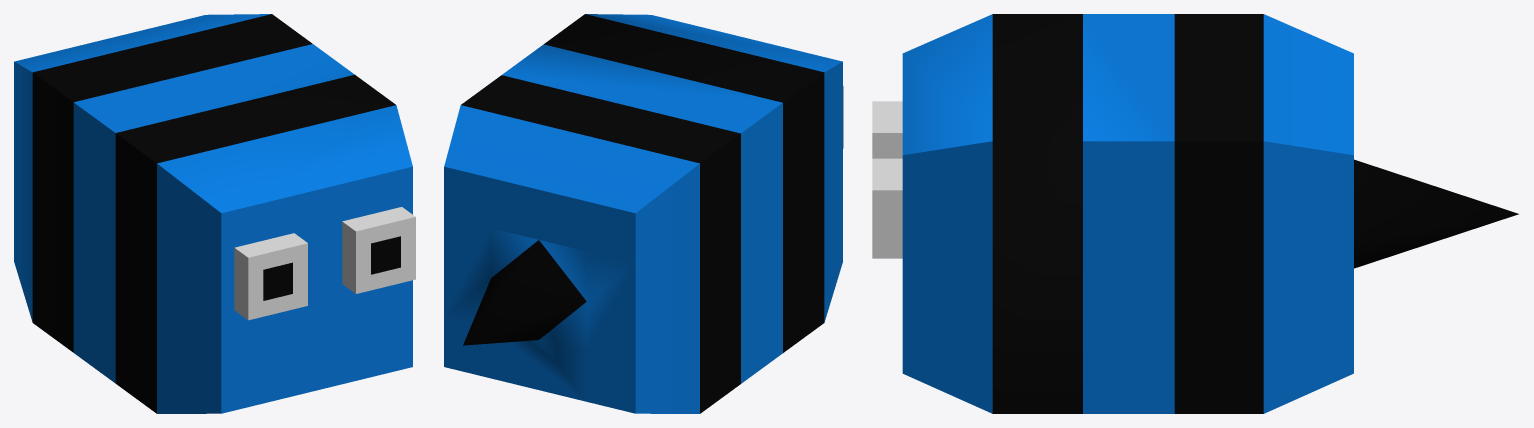
The model's file is Enemy Bee (blue).fbx.
3 renders of one model, left to right at view 1: azimuth 30°, elevation 25°; view 2: azimuth 150°, elevation 25°; view 3: azimuth 270°, elevation 25°, orthographic. The views are drawn at different scales.
Visible parts, largest first — view 1: pCube9; view 2: pCube9; view 3: pCube9.
Part boxes in pixels (x1,y1,x2,y2): pCube9: (14,14,415,413); pCube9: (444,14,843,413); pCube9: (872,14,1518,413).
Size of the model in its own units: 1 by 1 by 2.15.
